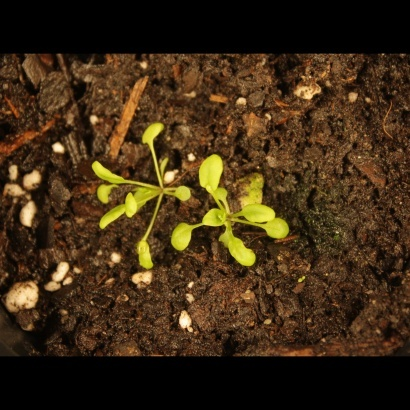leaf: (166, 220, 201, 255), (131, 232, 159, 274), (197, 153, 226, 193), (137, 120, 171, 149), (89, 160, 128, 185), (226, 236, 257, 267), (242, 201, 277, 228), (168, 178, 196, 206), (97, 206, 130, 229), (124, 192, 147, 222), (264, 217, 291, 241), (203, 207, 229, 230), (93, 183, 116, 206), (211, 182, 234, 205)
